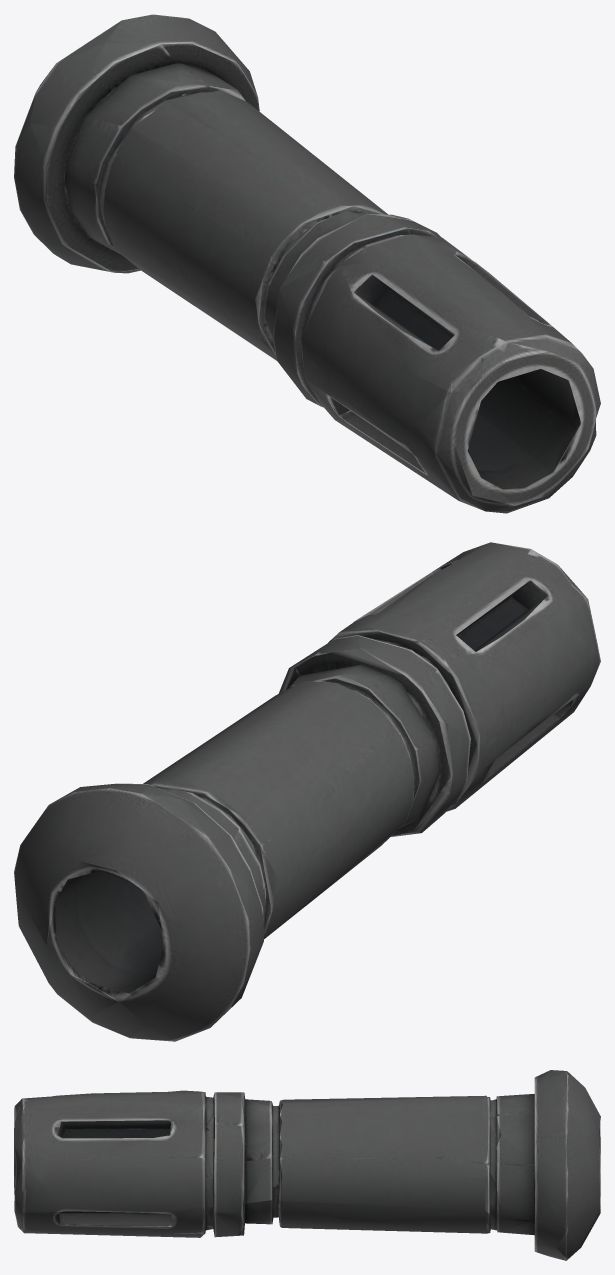
File: imperial_point_defence_turret__barrel_lod1.glb
3 renders of one model, top to bottom at view 1: azimuth 30°, elevation 25°; view 2: azimuth 150°, elevation 25°; view 3: azimuth 270°, elevation 25°, orthographic. The views are drawn at different scales.
Visible parts, largest first — view 1: mesh_node; view 2: mesh_node; view 3: mesh_node.
Boxes of the visible parts, bbox=[...] form: mesh_node: bbox=[14, 14, 600, 513]; mesh_node: bbox=[14, 542, 600, 1041]; mesh_node: bbox=[14, 1070, 600, 1260].
Bounding box in the file's own units: 0.8157 × 0.8176 × 2.5.
1 material, 1 textured.
